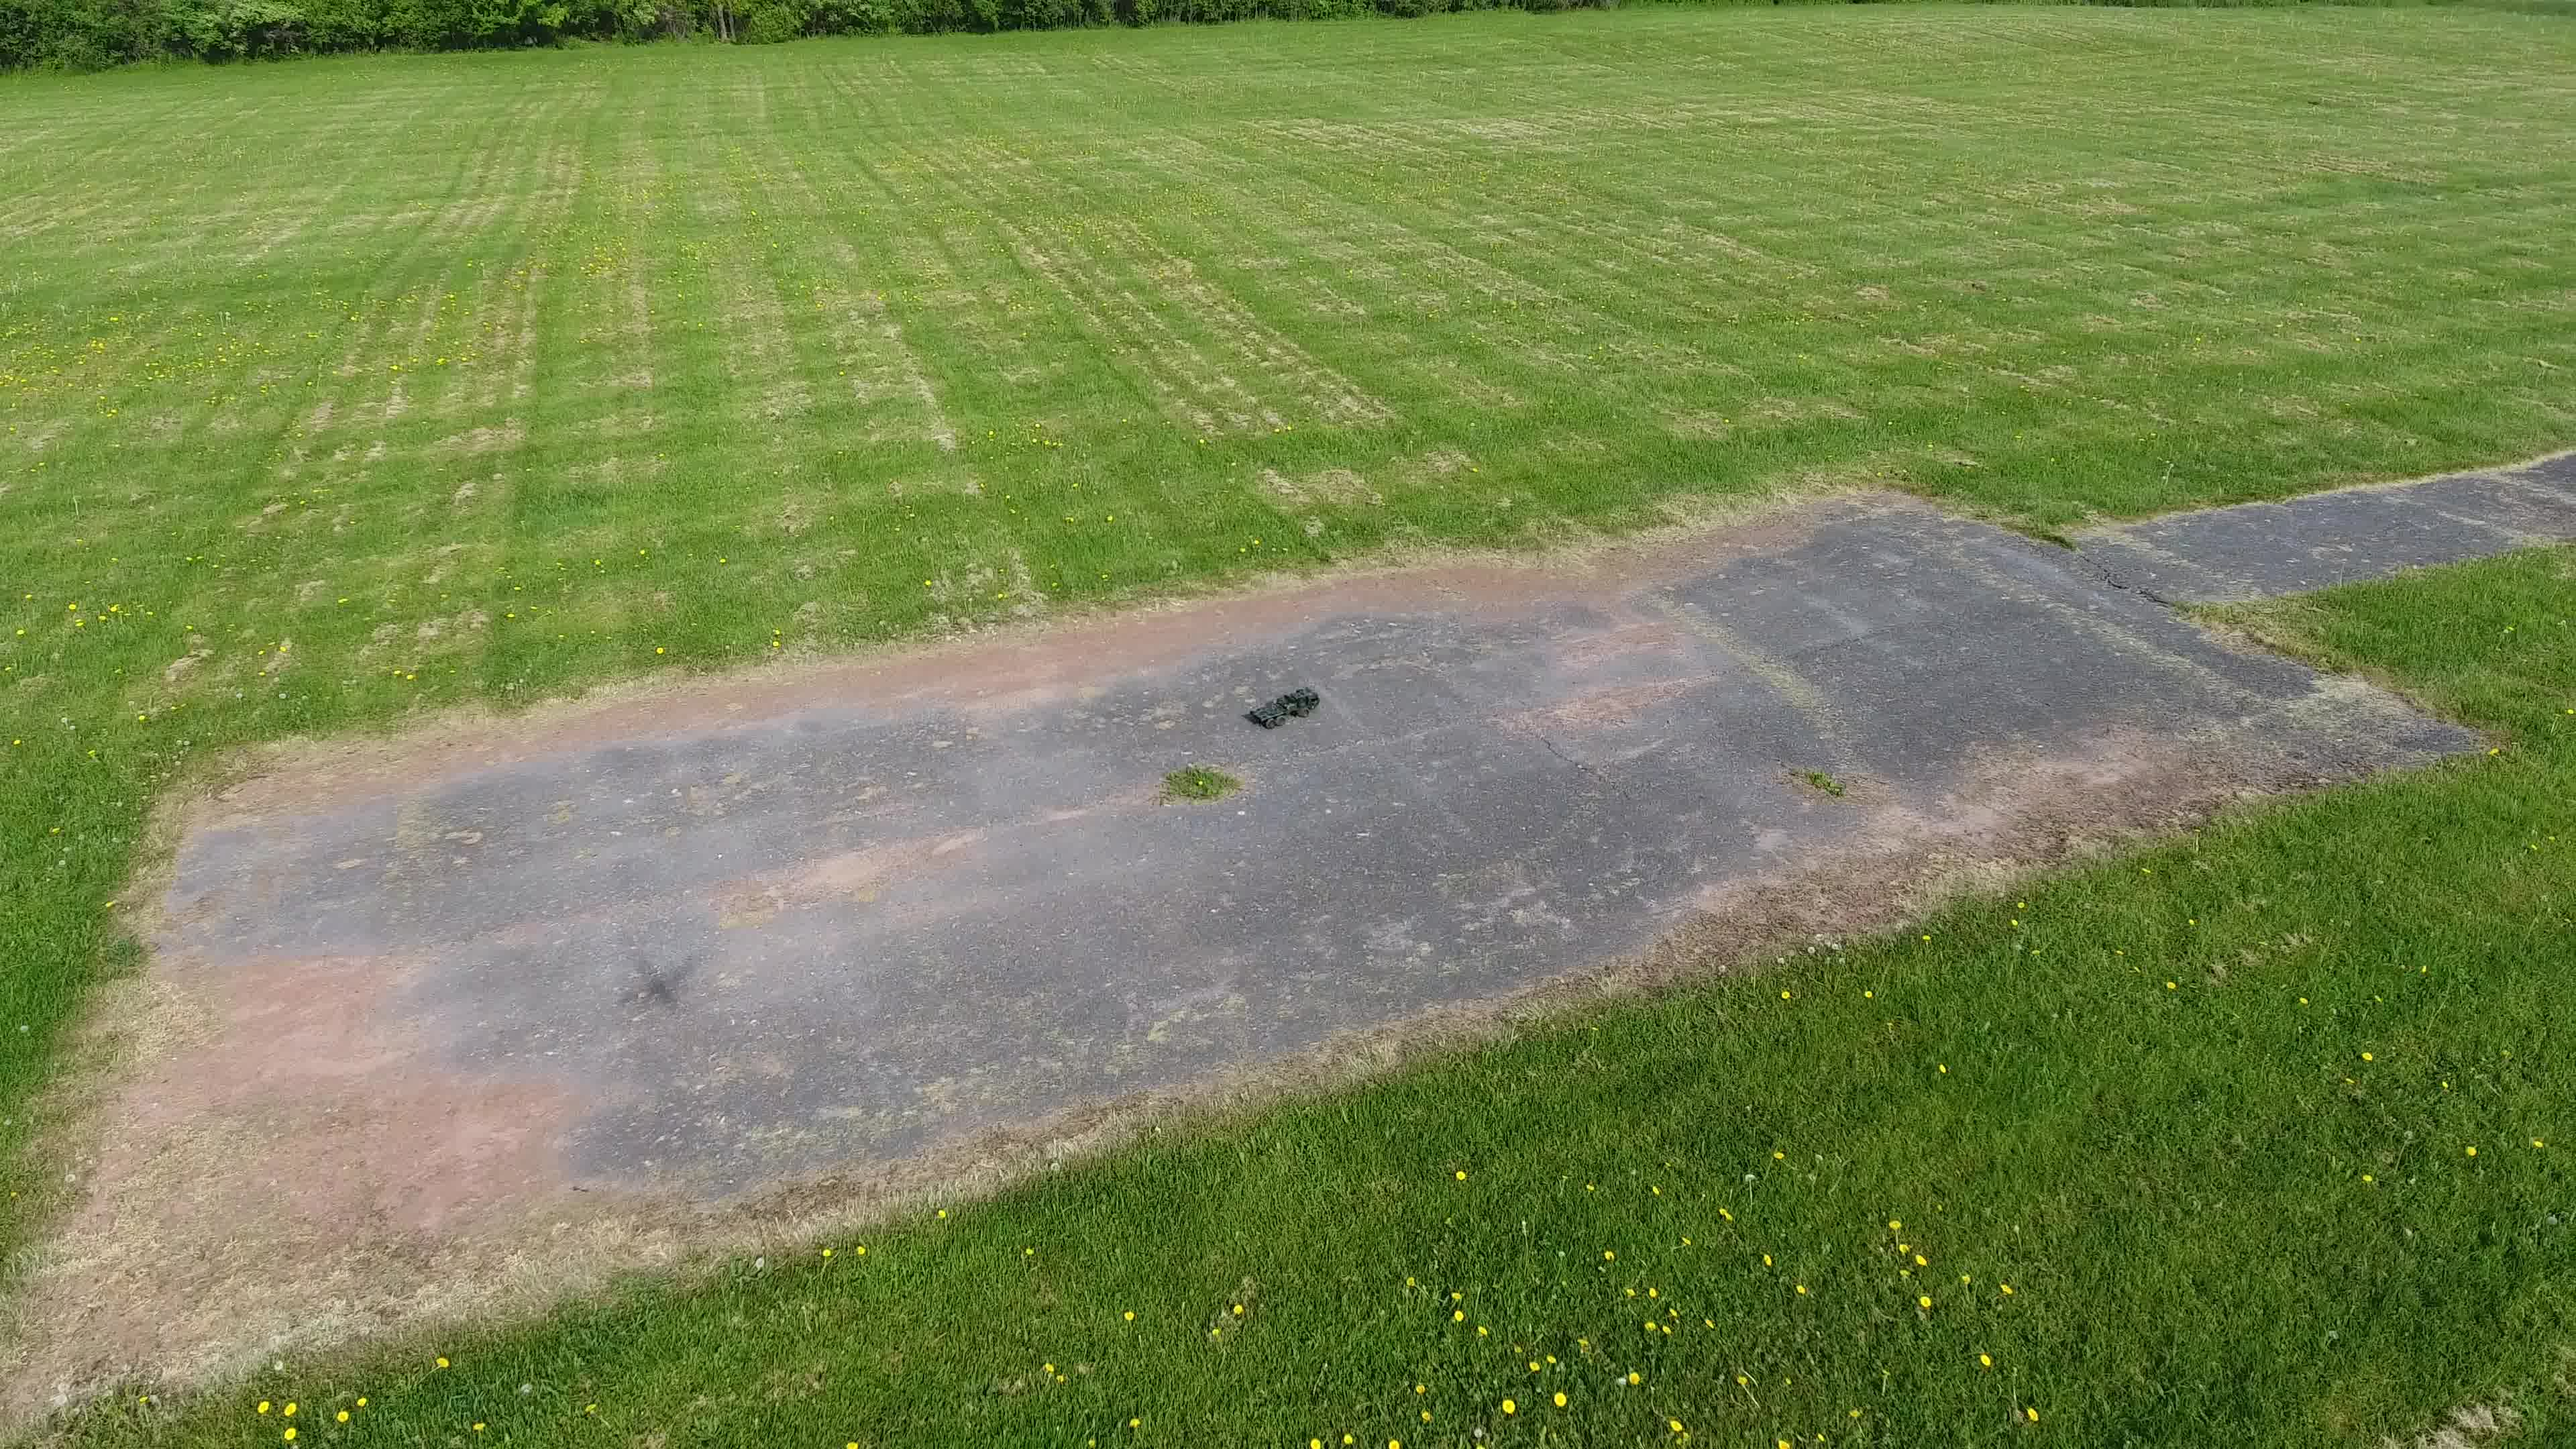transporter9: (1246, 685, 1322, 731)
